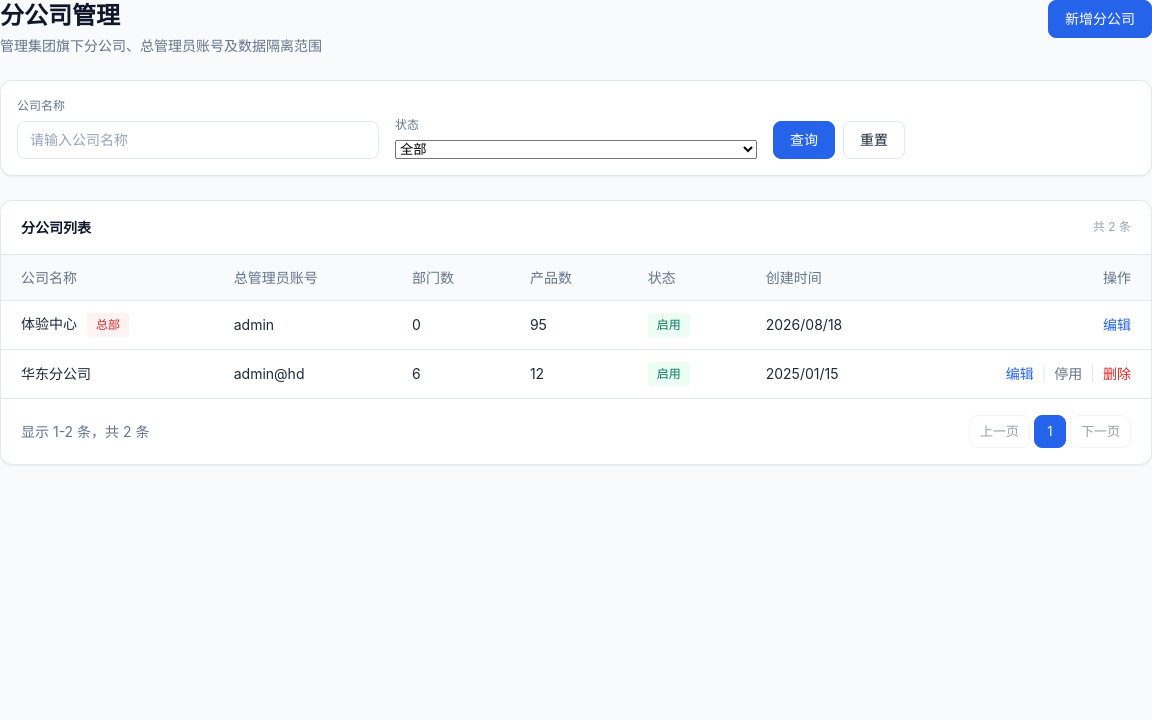
Test: AdminTenantsView › 按公司名称查询和重置，编辑弹层使用公司名称而不显示编码
Type "华东" into the field with placeholder "请输入公司名称" at (198, 140), box 17,121 -> 379,159
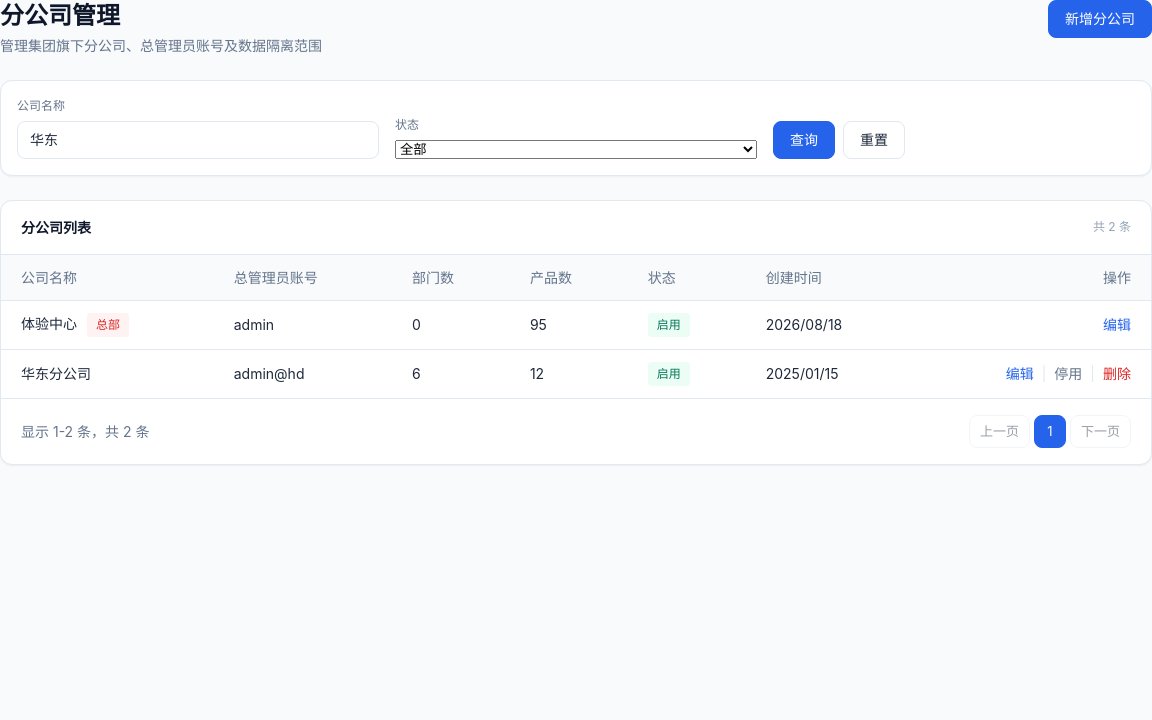
Press Enter in the field with placeholder "请输入公司名称", box 17,121 -> 379,159
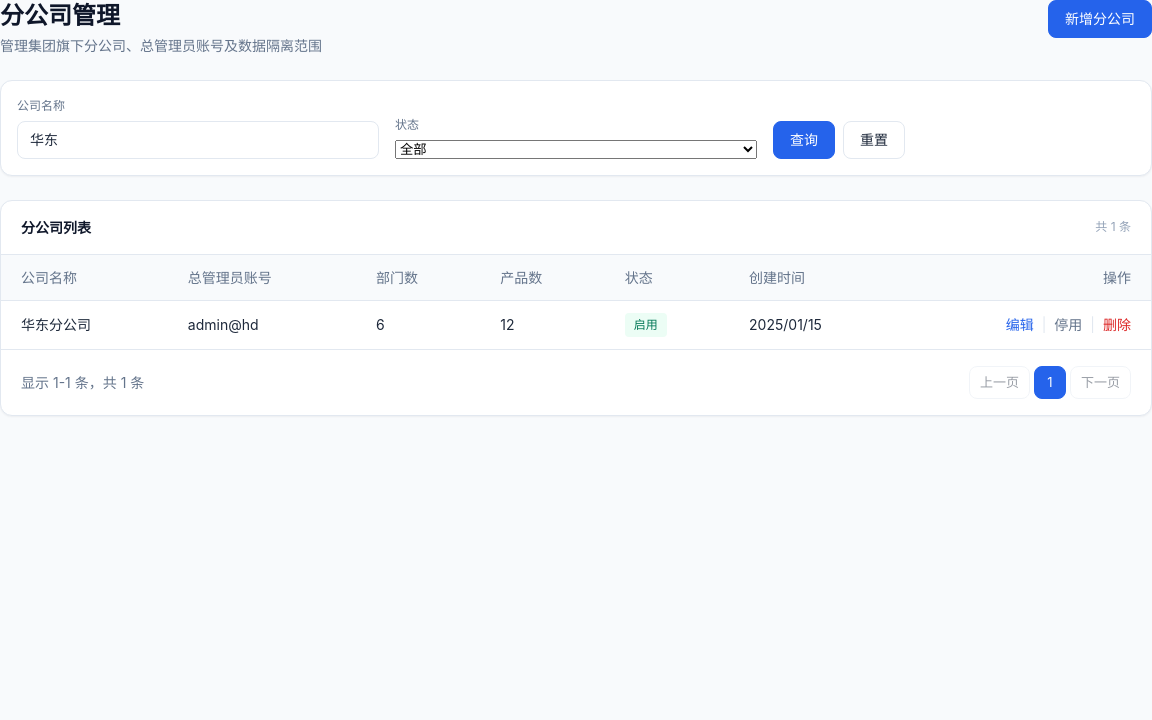
Click the button "编辑" at (1020, 325), box 1006,314 -> 1034,335
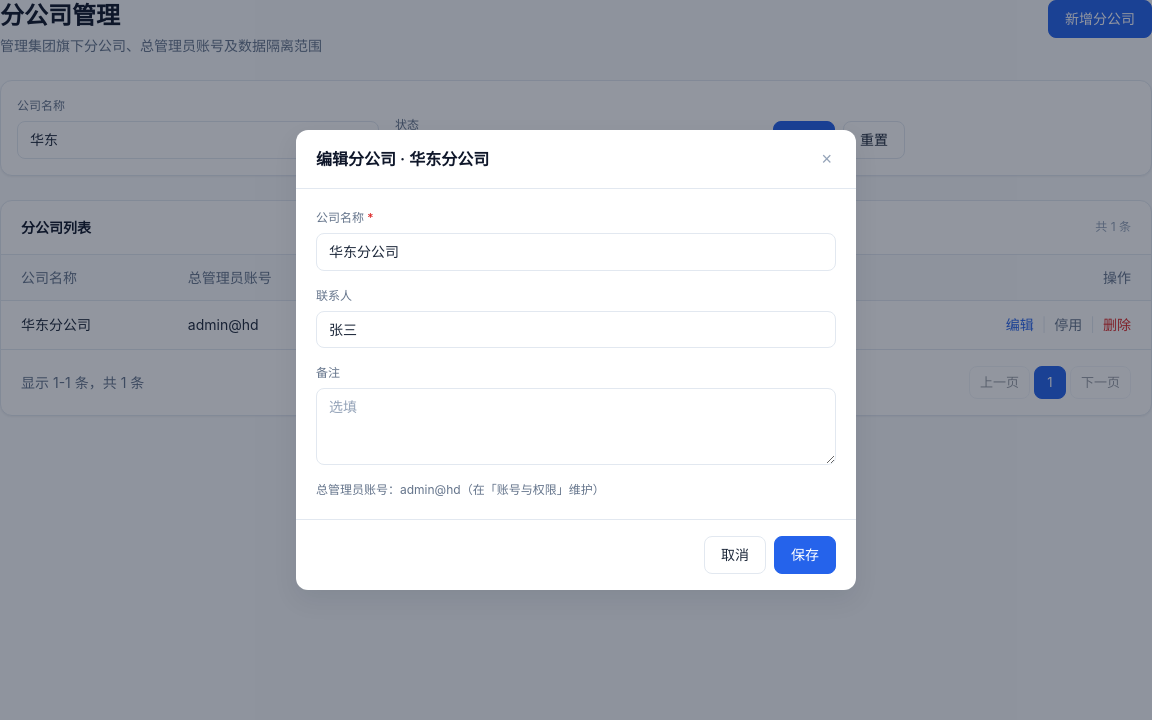
Check: the element with test id "tenant-edit-modal" shows "编辑分公司 · 华东分公司", box 316,149 -> 489,169
Click the button "取消" at (735, 555), box 704,536 -> 766,574
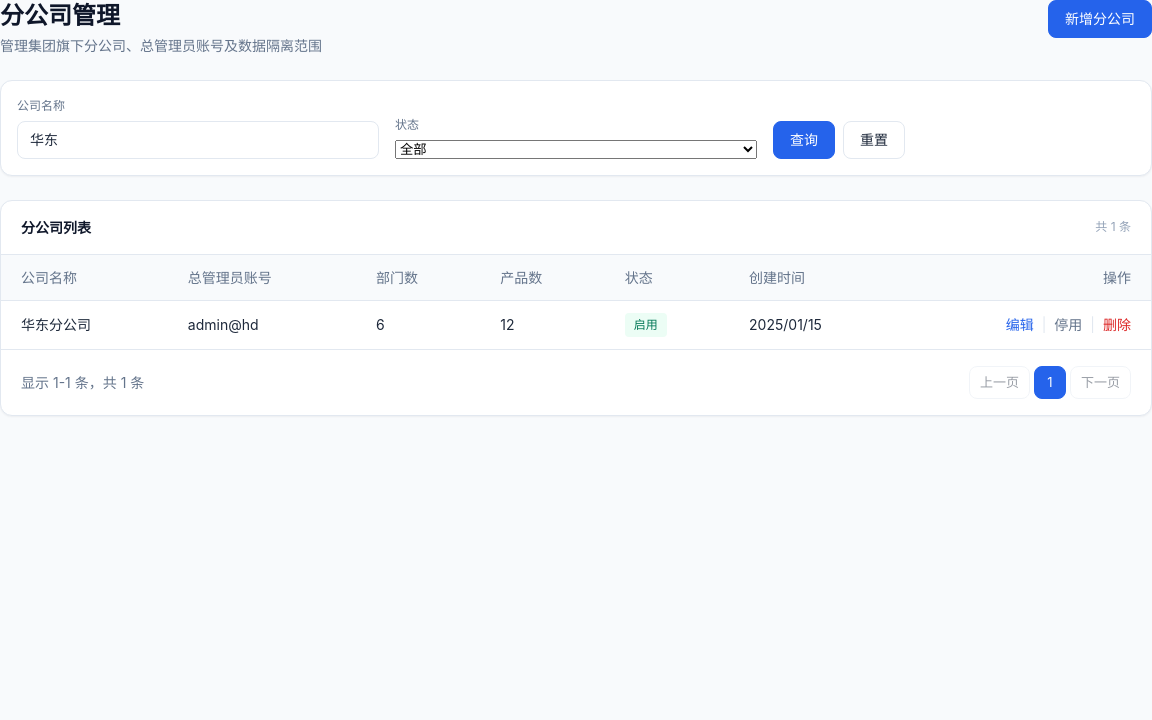
Click the button "重置" at (874, 140), box 843,121 -> 905,159
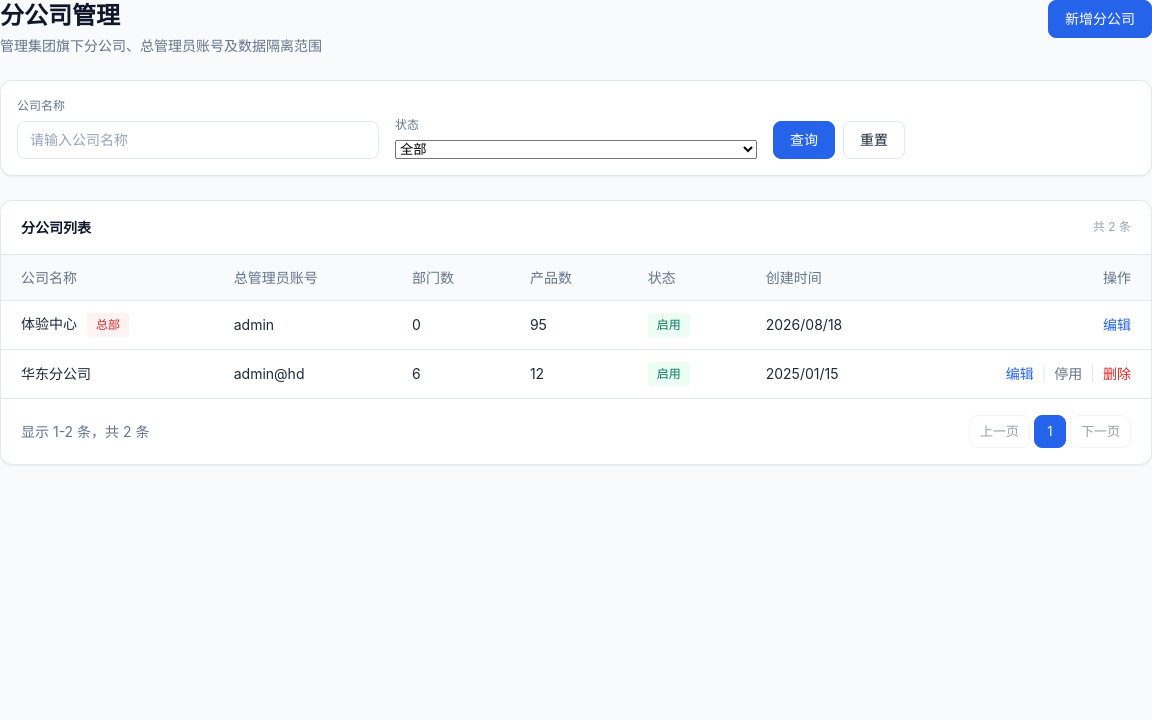
Check: the row with test id "tenant-row-default" is shown, box 1,300 -> 1151,349
